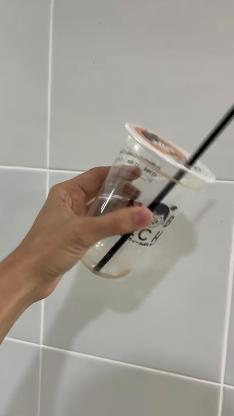Plastic Cup: (83, 121, 214, 282)
